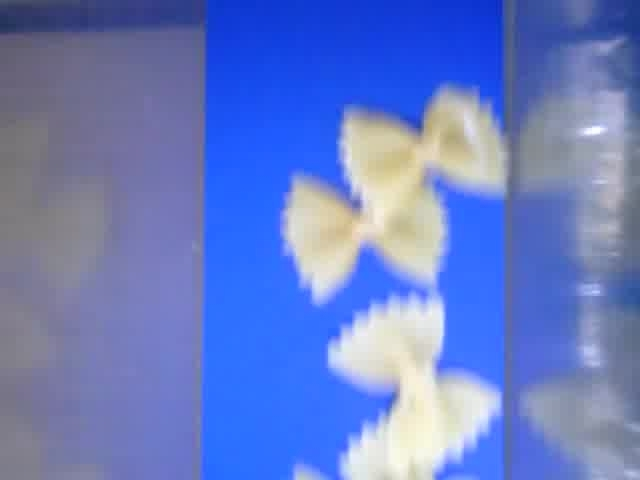farfalle: (328, 293, 504, 468), (279, 168, 448, 302), (335, 83, 510, 212)
